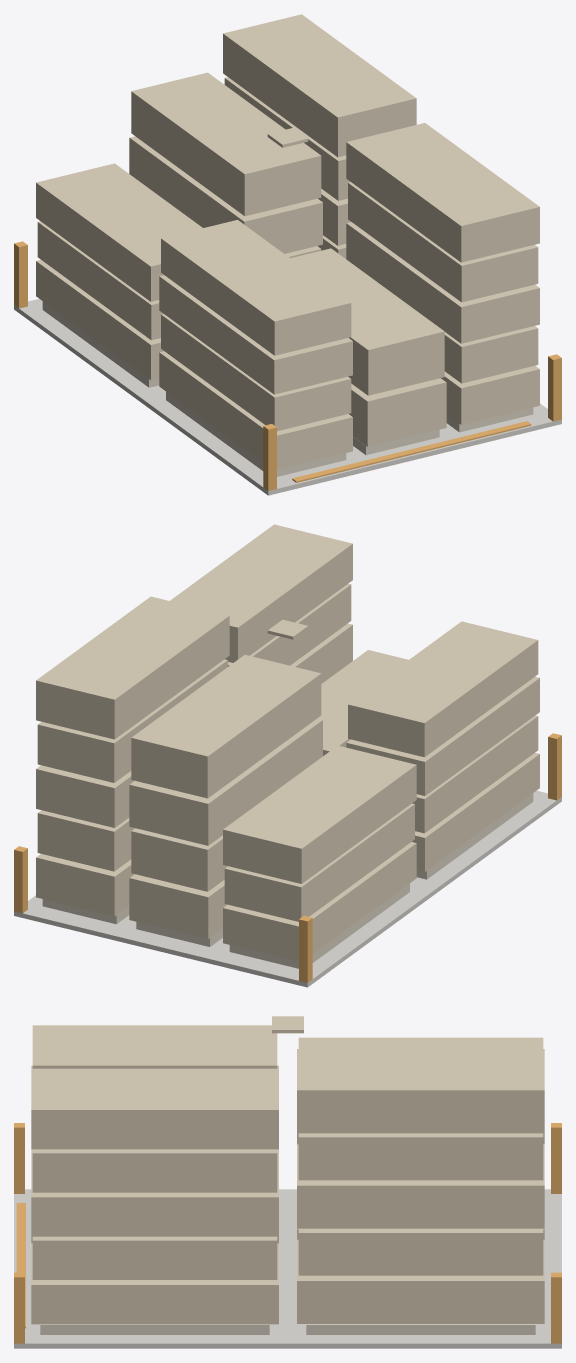
The picture shows the model from 3 angles, top to bottom: view 1: azimuth 30°, elevation 25°; view 2: azimuth 150°, elevation 25°; view 3: azimuth 270°, elevation 25°; orthographic projection. The views are drawn at different scales.
Visible parts, largest first — view 1: stacks, pad, mark_bollard, pallets; view 2: stacks, pad, pallets, mark_bollard; view 3: stacks, pad, pallets, mark_bollard.
Boxes of the visible parts, bbox=[...] form: stacks: bbox=[36, 14, 539, 469]; pad: bbox=[14, 298, 561, 495]; mark_bollard: bbox=[14, 241, 561, 490]; pallets: bbox=[42, 301, 533, 476]; stacks: bbox=[36, 524, 539, 961]; pad: bbox=[14, 790, 561, 987]; pallets: bbox=[42, 793, 533, 968]; mark_bollard: bbox=[14, 733, 561, 982]; stacks: bbox=[31, 1016, 544, 1324]; pad: bbox=[14, 1189, 561, 1348]; pallets: bbox=[40, 1324, 535, 1334]; mark_bollard: bbox=[14, 1123, 561, 1343].
Size of the model in its own units: 4 by 3.03 by 6.
